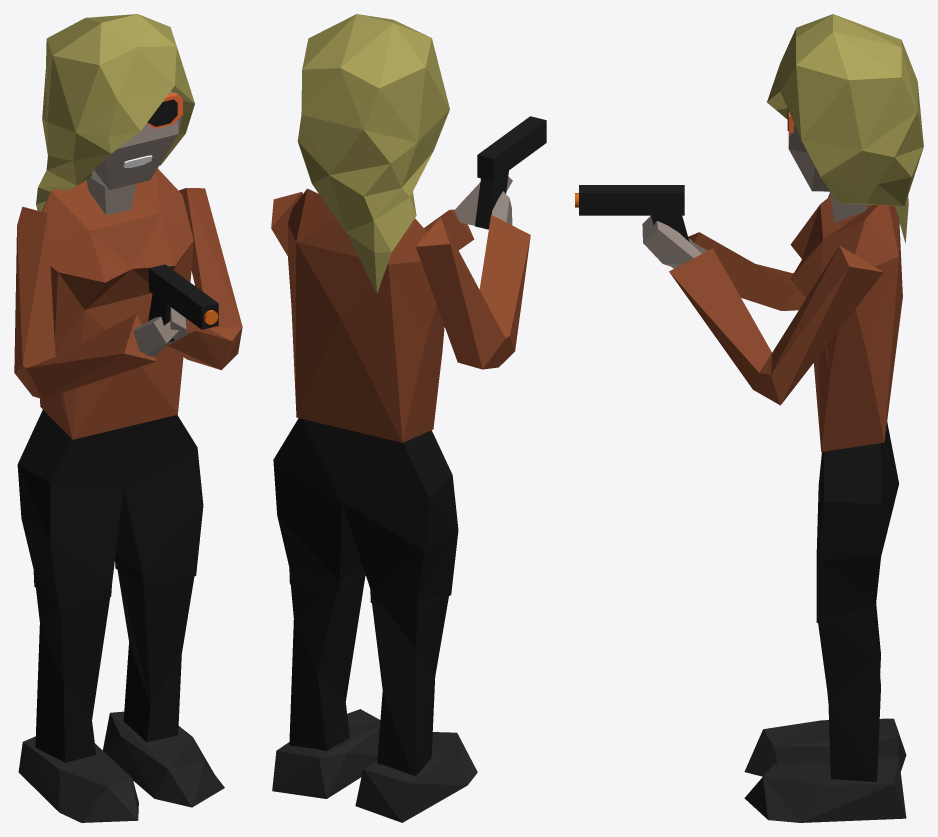
File: playerTWO.fbx
3 renders of one model, left to right at view 1: azimuth 30°, elevation 25°; view 2: azimuth 150°, elevation 25°; view 3: azimuth 270°, elevation 25°, orthographic.
Visible parts, largest first — view 1: ZPants, ZBody, Cube.005, ZArmRight, ZPants.001, ZPants.002, ZFootRight, ZFootLeft, ZArmLeft, ZombieHead(Root), Cube.001, Cube.002 (+2 smaller); view 2: ZBody, ZPants, Cube.005, ZArmRight, ZPants.002, ZPants.001, ZFootRight, ZFootLeft, Cube.001, ZArmLeft, Cube, Cube.003; view 3: Cube.005, ZBody, ZArmLeft, ZPants, ZPants.002, ZFootLeft, ZFootRight, ZArmRight, Cube.001, Cube.003, ZombieHead(Root).
Part boxes in pixels (x1,y1,x2,y2): ZPants: (17,410,203,609); ZBody: (40,168,193,439); Cube.005: (36,14,194,211); ZArmRight: (14,206,156,399); ZPants.001: (35,588,110,762); ZPants.002: (117,570,194,741); ZFootRight: (18,736,138,822); ZFootLeft: (103,711,224,807); ZArmLeft: (165,188,242,369); ZombieHead(Root): (86,91,181,215); Cube.001: (149,264,218,329); Cube.002: (133,316,178,356); ZBody: (287,188,444,442); ZPants: (273,418,458,615); Cube.005: (297,14,449,293); ZArmRight: (416,215,530,369); ZPants.002: (289,576,365,750); ZPants.001: (371,596,448,775); ZFootRight: (355,732,477,822); ZFootLeft: (272,709,380,798); Cube.001: (477,116,546,181); ZArmLeft: (271,192,474,255); Cube: (475,170,508,229); Cube.003: (454,176,512,225); Cube.005: (767,14,923,243); ZBody: (790,196,902,451); ZArmLeft: (669,245,883,405); ZPants: (816,421,899,622); ZPants.002: (818,620,880,781); ZFootLeft: (744,756,906,822); ZFootRight: (744,718,906,776); ZArmRight: (688,193,830,310); Cube.001: (579,185,684,215); Cube.003: (642,216,701,267); ZombieHead(Root): (788,124,867,222).
Bounding box in the file's own units: 421 × 1479 × 612.
